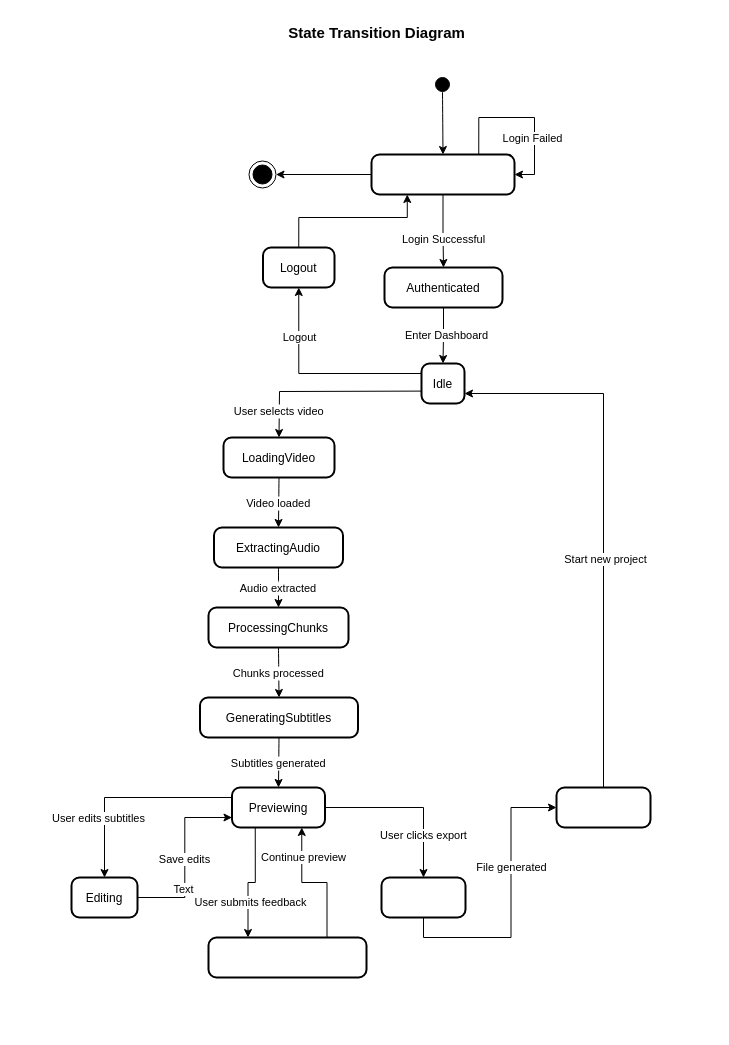
Image size: 729x1045. Some labels were removed from this diagram. Each missing label, with the centre of its shape:
"Completed" goes at pixel 603 807.
"Exporting" goes at pixel 423 897.
"FeedbackSubmitted" goes at pixel 287 957.
"NotAuthenticated" goes at pixel 442 174.
